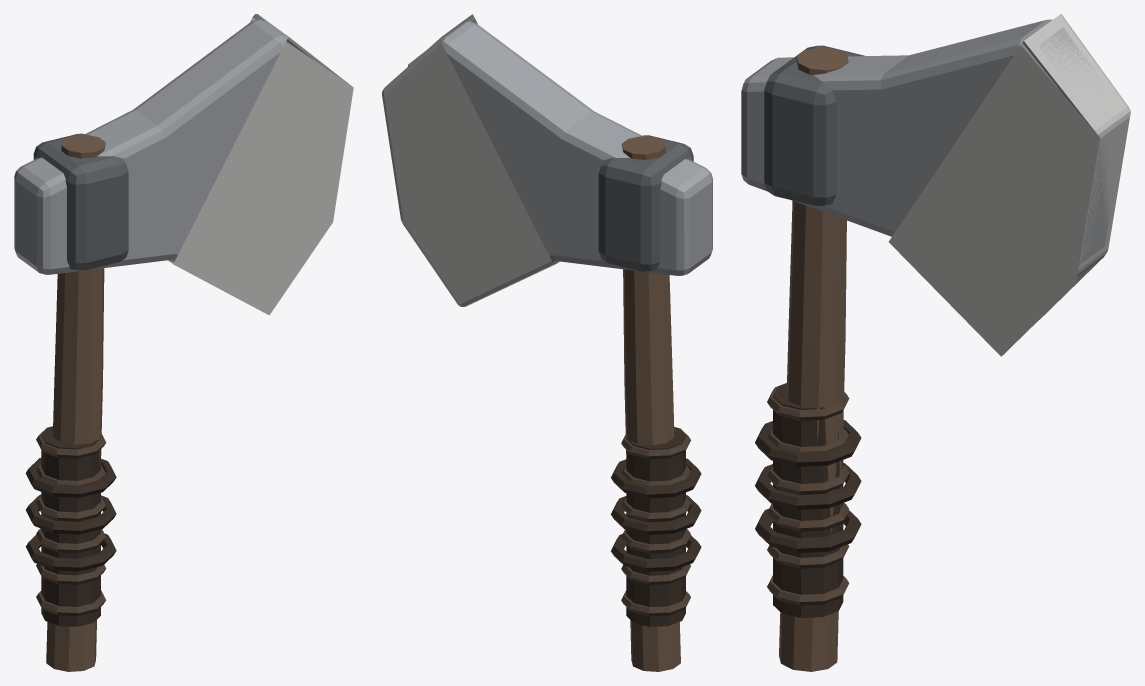
Rendered from axe.glb.
3 views of the same model, side by side, from view 1: azimuth 30°, elevation 25°; view 2: azimuth 150°, elevation 25°; view 3: azimuth 330°, elevation 25° (orthographic). The views are drawn at different scales.
Visible parts, largest first — view 1: Sharpened axe cutting edge.001, Forged crescent axe blade.001, Axe ash handle.001, Iron axe socket.001, Leather axe grip.001, Woodland equipment worn binding.002, Woodland equipment worn binding, Woodland equipment worn binding.001, Grip wrapping.011, Grip wrapping.009, Grip wrapping.006, Grip wrapping.008 (+1 smaller); view 2: Forged crescent axe blade.001, Sharpened axe cutting edge.001, Axe ash handle.001, Iron axe socket.001, Leather axe grip.001, Woodland equipment worn binding.002, Woodland equipment worn binding, Woodland equipment worn binding.001, Grip wrapping.011, Grip wrapping.008, Grip wrapping.009, Grip wrapping.006 (+1 smaller); view 3: Sharpened axe cutting edge.001, Forged crescent axe blade.001, Axe ash handle.001, Iron axe socket.001, Leather axe grip.001, Woodland equipment worn binding.002, Woodland equipment worn binding, Woodland equipment worn binding.001, Grip wrapping.006, Grip wrapping.008, Grip wrapping.009, Grip wrapping.011 (+1 smaller).
Part boxes in pixels (bbox=[...]): Sharpened axe cutting edge.001: bbox=[168, 14, 353, 315]; Forged crescent axe blade.001: bbox=[14, 19, 287, 274]; Axe ash handle.001: bbox=[46, 134, 105, 671]; Iron axe socket.001: bbox=[33, 133, 128, 270]; Leather axe grip.001: bbox=[41, 426, 100, 626]; Woodland equipment worn binding.002: bbox=[25, 458, 116, 497]; Woodland equipment worn binding: bbox=[25, 533, 116, 571]; Woodland equipment worn binding.001: bbox=[26, 494, 116, 534]; Grip wrapping.011: bbox=[36, 427, 106, 458]; Grip wrapping.009: bbox=[36, 496, 106, 521]; Grip wrapping.006: bbox=[36, 590, 105, 616]; Grip wrapping.008: bbox=[36, 528, 105, 553]; Forged crescent axe blade.001: bbox=[440, 21, 712, 275]; Sharpened axe cutting edge.001: bbox=[382, 14, 559, 306]; Axe ash handle.001: bbox=[621, 136, 680, 671]; Iron axe socket.001: bbox=[598, 135, 693, 271]; Leather axe grip.001: bbox=[626, 427, 685, 626]; Woodland equipment worn binding.002: bbox=[611, 458, 701, 498]; Woodland equipment worn binding: bbox=[611, 534, 701, 571]; Woodland equipment worn binding.001: bbox=[611, 495, 701, 534]; Grip wrapping.011: bbox=[621, 428, 690, 459]; Grip wrapping.008: bbox=[621, 529, 690, 553]; Grip wrapping.009: bbox=[621, 496, 690, 521]; Grip wrapping.006: bbox=[621, 591, 690, 616]; Sharpened axe cutting edge.001: bbox=[889, 14, 1130, 356]; Forged crescent axe blade.001: bbox=[741, 19, 1112, 264]; Axe ash handle.001: bbox=[779, 47, 848, 671]; Iron axe socket.001: bbox=[764, 45, 864, 206]; Leather axe grip.001: bbox=[773, 383, 843, 617]; Woodland equipment worn binding.002: bbox=[755, 420, 861, 466]; Woodland equipment worn binding: bbox=[755, 508, 861, 552]; Woodland equipment worn binding.001: bbox=[755, 463, 861, 509]; Grip wrapping.006: bbox=[767, 575, 849, 605]; Grip wrapping.008: bbox=[767, 503, 849, 531]; Grip wrapping.009: bbox=[767, 465, 849, 494]; Grip wrapping.011: bbox=[767, 383, 849, 420].
Bounding box in the file's own units: 0.6196 × 1.12 × 0.16.
